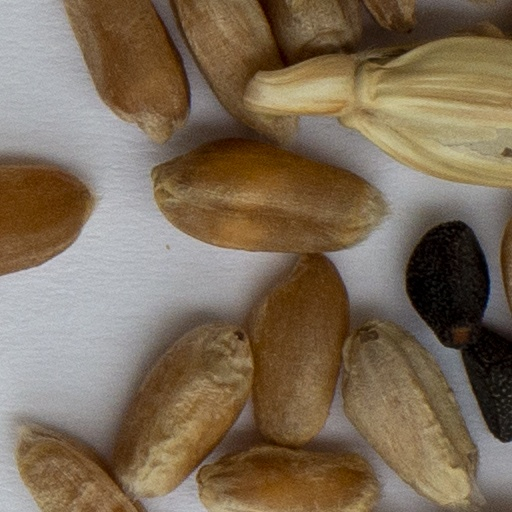Peel-poly: (239, 33, 511, 186)
